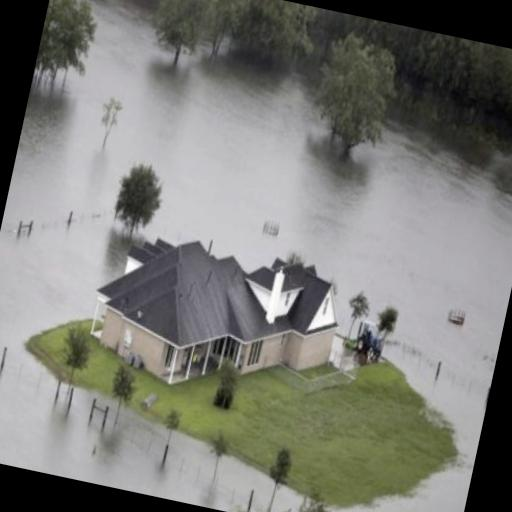flood: (0, 0, 512, 512)
house: (81, 214, 348, 414)
